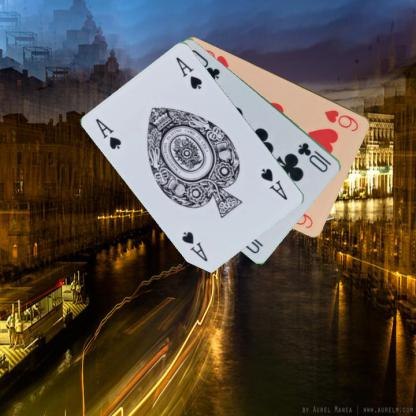10c: (295, 140, 333, 174)
6h: (322, 107, 360, 133)
As: (258, 165, 289, 202), (93, 115, 123, 150)
